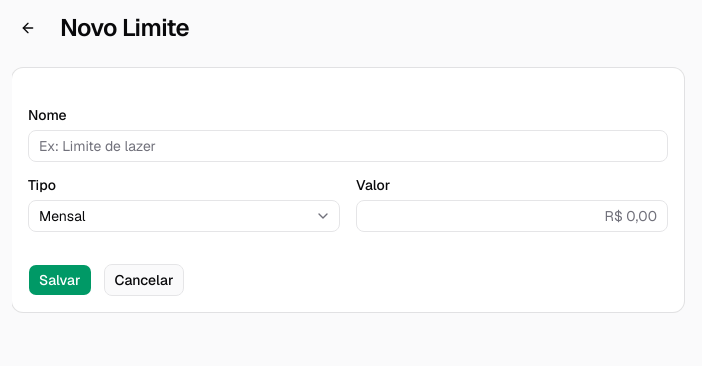
Test: NovoLimitePage › exibe mensagem de erro de API quando criarLimite falha
The width and height of the screenshot is (702, 366).
Step 1. Type "Limite de lazer" into the field labelled "Nome" → point(348, 146), box [28, 130, 668, 162]
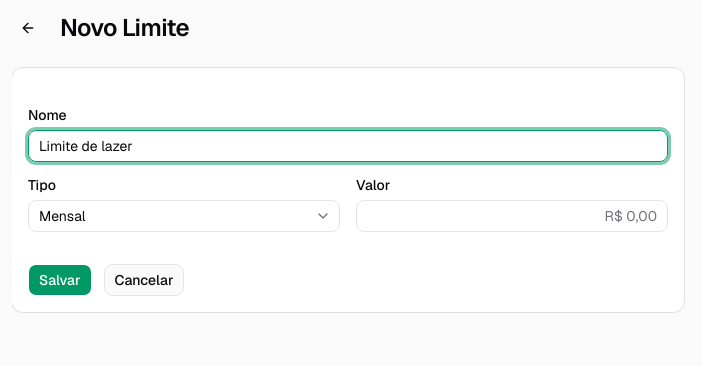
Step 2. Type "500" into the field named "Valor" → point(512, 216), box [356, 200, 668, 232]
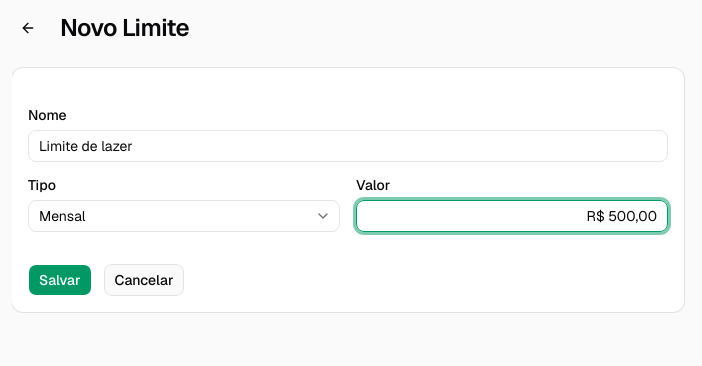
Step 3. Click the button "Salvar" → point(60, 280), box [28, 264, 92, 296]
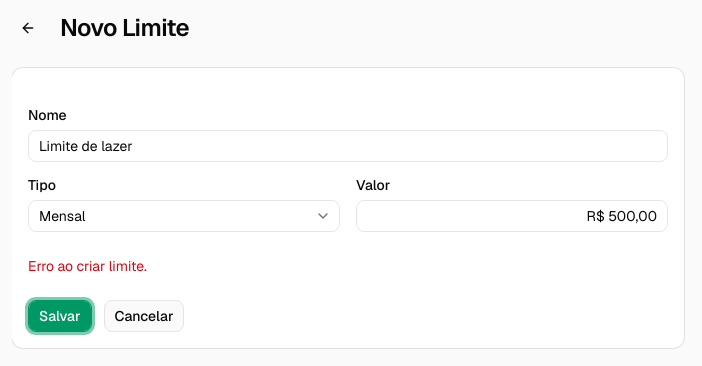
Check: the text "Erro ao criar limite." is shown, box [28, 257, 147, 275]
